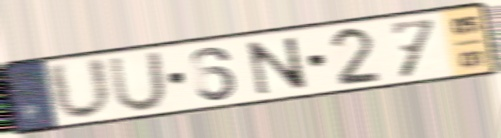2: (327, 24, 385, 90)
6: (189, 45, 240, 102)
7: (388, 15, 438, 80)
N: (243, 34, 313, 97)
U: (44, 54, 117, 123), (107, 49, 170, 114)
